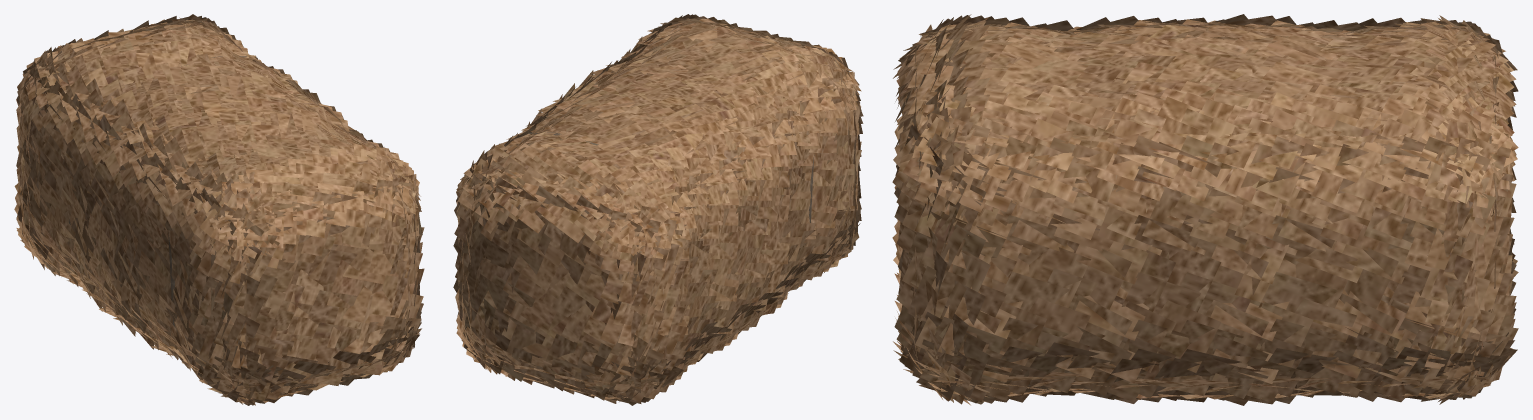
The model's file is hay_bale.glb.
The picture shows the model from 3 angles, left to right: view 1: azimuth 30°, elevation 25°; view 2: azimuth 150°, elevation 25°; view 3: azimuth 270°, elevation 25°; orthographic projection. The views are drawn at different scales.
Parts seen in each view (by area): view 1: Hay_bale_latest:Hay; view 2: Hay_bale_latest:Hay; view 3: Hay_bale_latest:Hay.
Boxes of the visible parts, <box> form: Hay_bale_latest:Hay: <box>14,14,424,405</box>; Hay_bale_latest:Hay: <box>453,14,863,405</box>; Hay_bale_latest:Hay: <box>892,14,1518,405</box>.
Size of the model in its own units: 0.9778 by 0.9708 by 1.79.
Materials: 1 (1 with a texture image).
